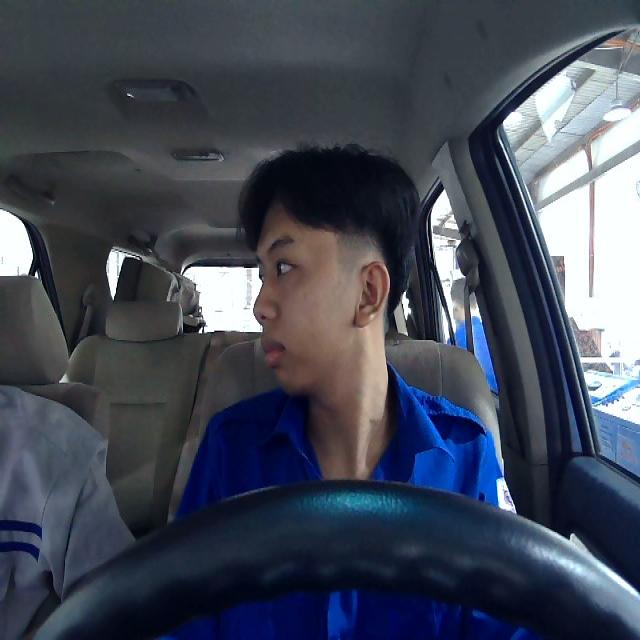seeing_left: (250, 187, 393, 397)
